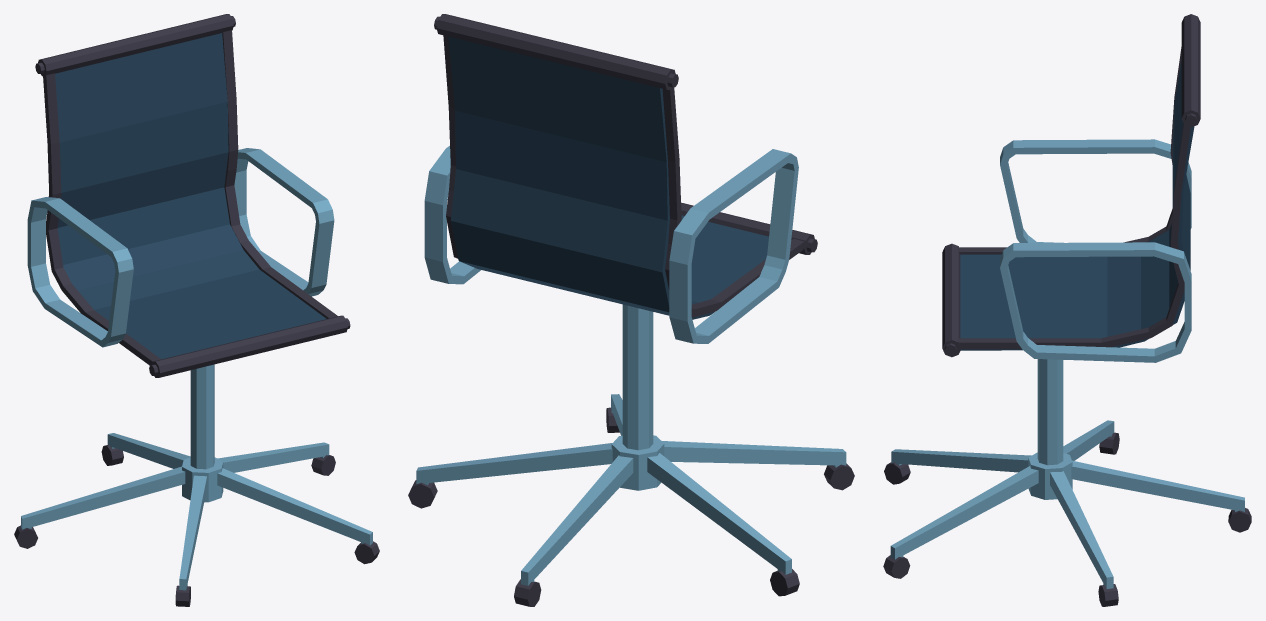
File: Prop_Office_Chair.fbx
3 views of the same model, side by side, from view 1: azimuth 30°, elevation 25°; view 2: azimuth 150°, elevation 25°; view 3: azimuth 270°, elevation 25° (orthographic). The views are drawn at different scales.
Visible parts, largest first — view 1: Prop_Office_Chair; view 2: Prop_Office_Chair; view 3: Prop_Office_Chair.
Boxes of the visible parts, x1,y1,x2,y2 form: Prop_Office_Chair: [14, 14, 379, 606]; Prop_Office_Chair: [408, 14, 854, 606]; Prop_Office_Chair: [883, 14, 1251, 606].
Size of the model in its own units: 95.09 by 99.9 by 133.
